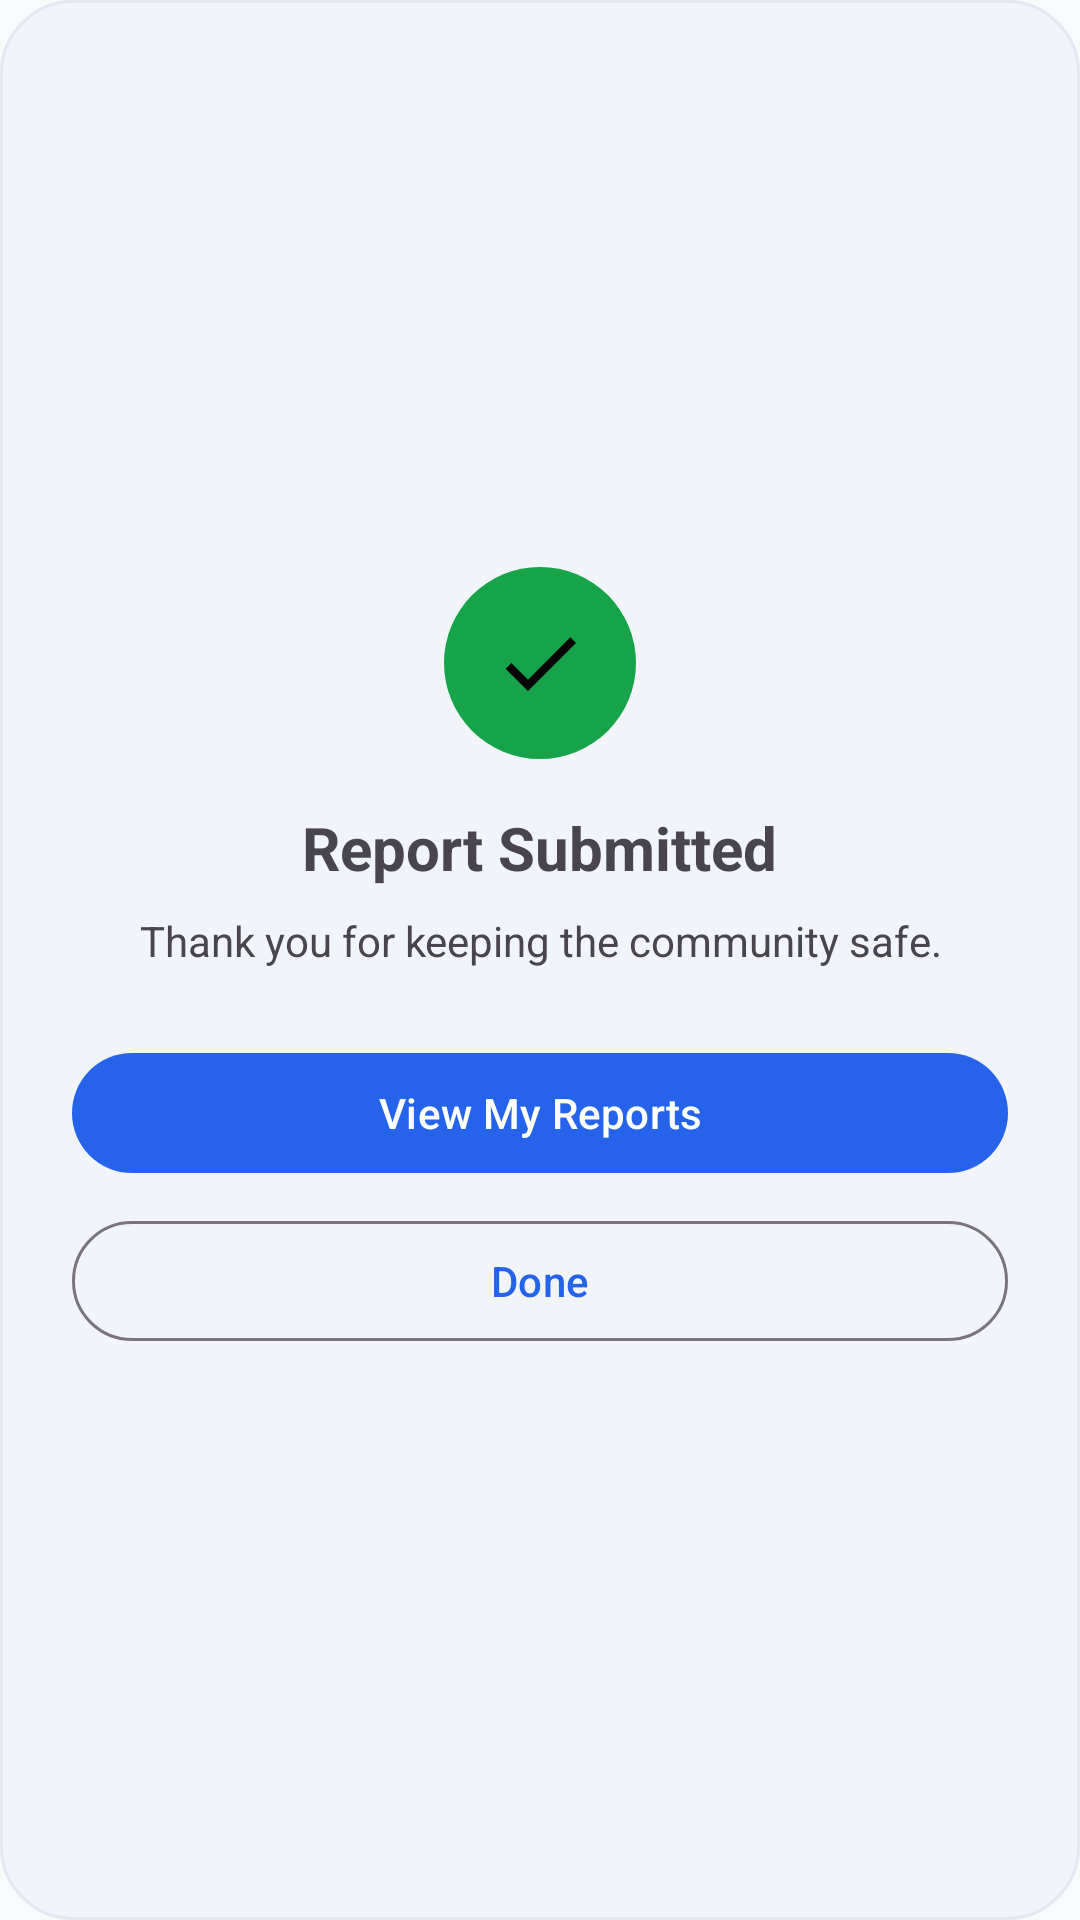

Icon click points for this 1080*1920 phone screenshot, format (x,y):
check: (540,663)
